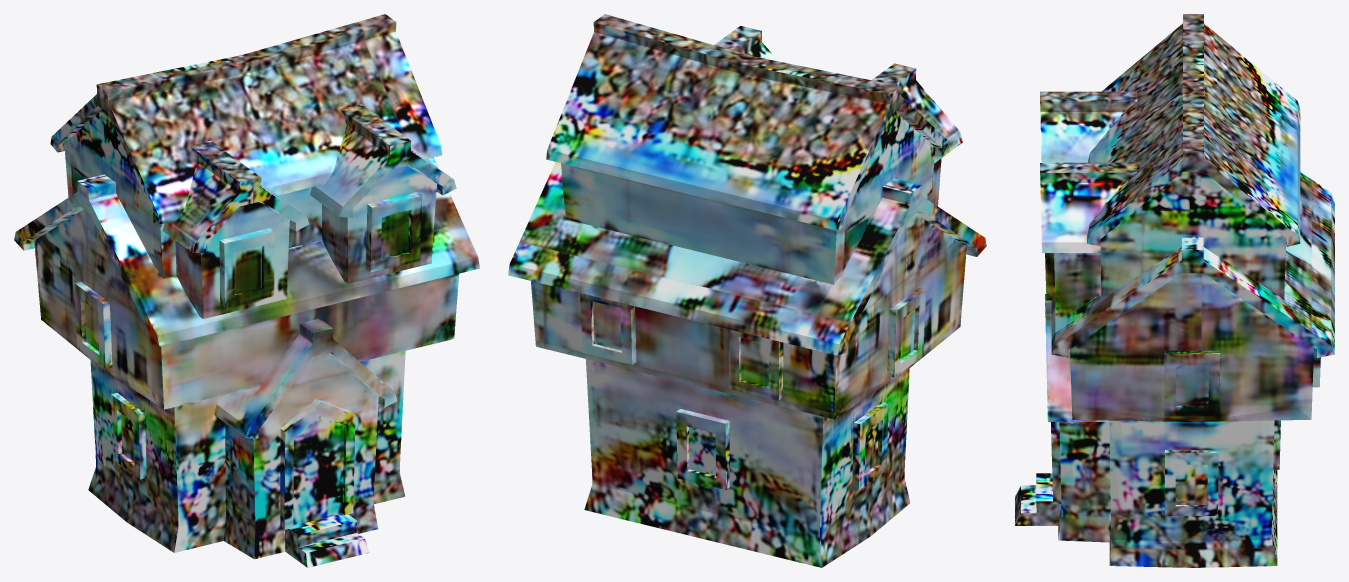
File: textured_latent_paint.glb
3 renders of one model, left to right at view 1: azimuth 30°, elevation 25°; view 2: azimuth 150°, elevation 25°; view 3: azimuth 270°, elevation 25°, orthographic. The views are drawn at different scales.
Parts seen in each view (by area): view 1: pMesh1; view 2: pMesh1; view 3: pMesh1.
Boxes of the visible parts, bbox=[...] form: pMesh1: bbox=[14, 14, 479, 567]; pMesh1: bbox=[508, 14, 986, 567]; pMesh1: bbox=[1015, 14, 1334, 567].
Size of the model in its own units: 1.56 by 2 by 1.35.
Materials: 1 (1 with a texture image).
